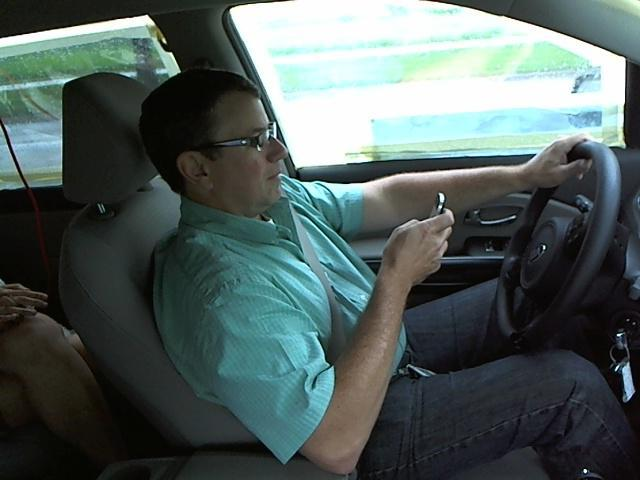PhoneUse: (420, 172, 456, 227)
